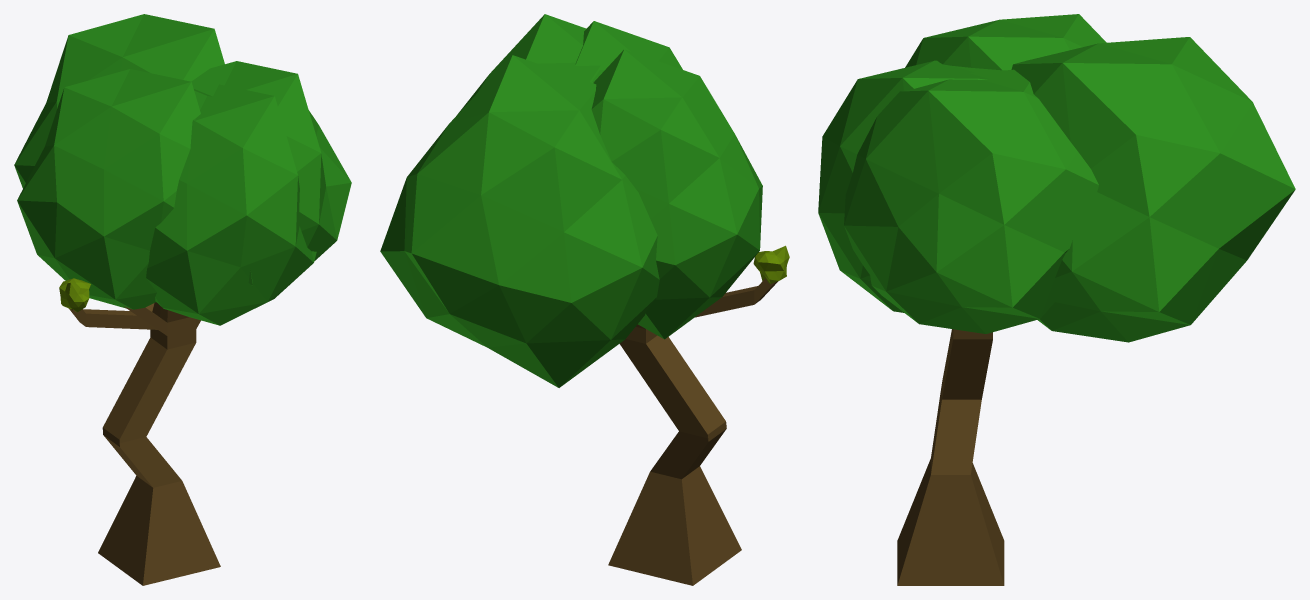
File: tree11.glb
The picture shows the model from 3 angles, left to right: view 1: azimuth 30°, elevation 25°; view 2: azimuth 150°, elevation 25°; view 3: azimuth 270°, elevation 25°; orthographic projection. The views are drawn at different scales.
Parts seen in each view (by area): view 1: TreeBlooming; view 2: TreeBlooming; view 3: TreeBlooming.
Part boxes in pixels (x1=…): TreeBlooming: x1=14, y1=14, x2=351, y2=585; TreeBlooming: x1=380, y1=14, x2=789, y2=585; TreeBlooming: x1=818, y1=14, x2=1295, y2=585.
Bounding box in the file's own units: 7.67 × 11.54 × 8.93.
